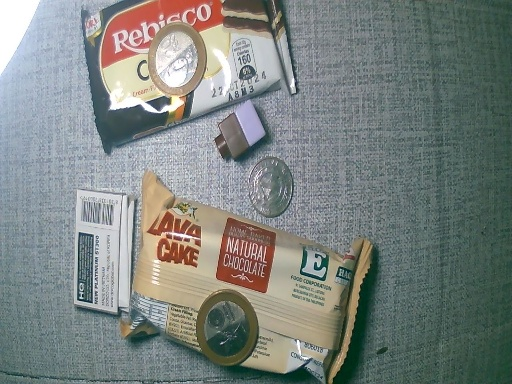metal: (194, 289, 257, 369), (148, 22, 205, 101), (247, 156, 297, 218)
plastic: (128, 179, 371, 384), (77, 1, 300, 136)
trash: (74, 190, 130, 315), (215, 107, 269, 164)
